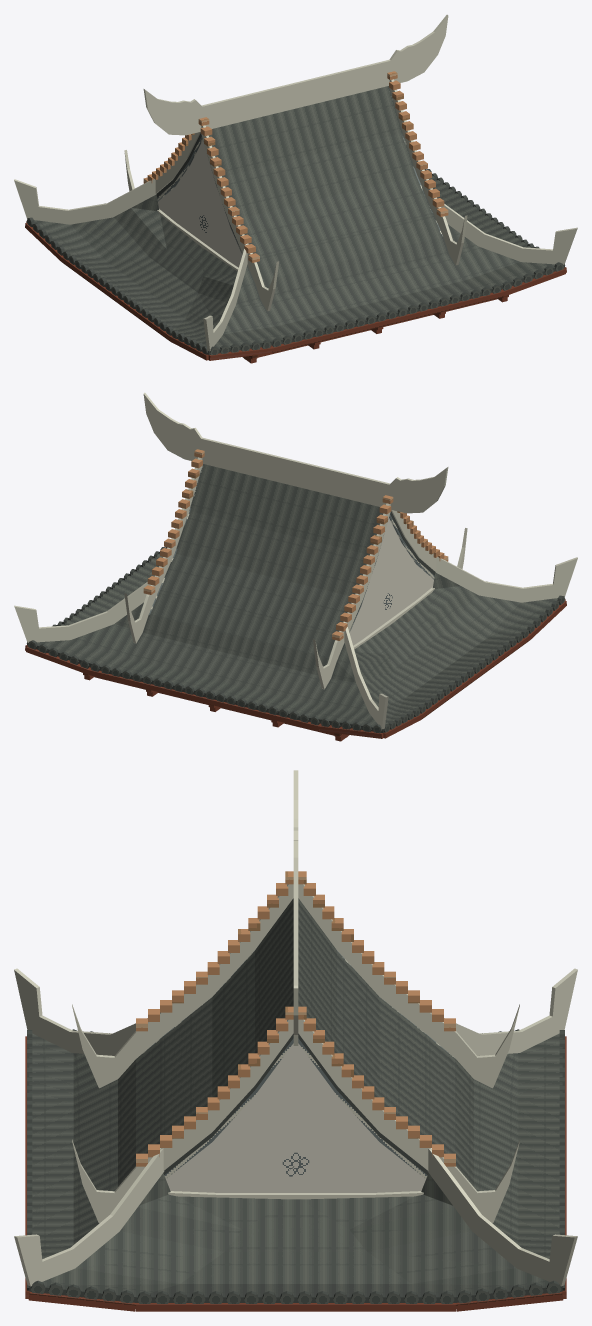
The model's file is roof_v8.obj.
The picture shows the model from 3 angles, top to bottom: view 1: azimuth 30°, elevation 25°; view 2: azimuth 150°, elevation 25°; view 3: azimuth 270°, elevation 25°; orthographic projection. The views are drawn at different scales.
Parts seen in each view (by area): view 1: tiles__upper_1_0, tiles__upper_1_1, tiles__upper_1_2, tiles__lower_side_1_2, main_ridge__continuous_9_block_plate, tiles__lower_side_1_0, gable_L__plaster_wall, tiles__lower_side_1_1, tiles__lower_side_1_3, lower_ridge_L_N__B_18_18_70_blade, lower_ridge_R_S__B_18_18_70_blade, tiles__end_shoulder_-1_-1_2 (+28 smaller); view 2: tiles__upper_-1_0, tiles__upper_-1_1, tiles__upper_-1_2, tiles__lower_side_-1_2, main_ridge__continuous_9_block_plate, tiles__lower_side_-1_0, gable_L__plaster_wall, tiles__lower_side_-1_1, tiles__lower_side_-1_3, lower_ridge_L_S__B_18_18_70_blade, lower_ridge_R_N__B_18_18_70_blade, tiles__end_shoulder_-1_1_2 (+28 smaller); view 3: gable_R__plaster_wall, tiles__lower_side_-1_3, tiles__lower_side_1_3, tiles__upper_-1_2, tiles__upper_1_2, tiles__lower_side_-1_2, tiles__lower_side_1_2, raking_ridge_L_N__A_B_G_D_E, raking_ridge_L_S__A_B_G_D_E, tiles__upper_-1_1, tiles__upper_1_1, tiles__end_shoulder_1_-1_2 (+39 smaller).
Part boxes in pixels (x1,y1,x2,y2): tiles__upper_1_0: (208,86,402,176); tiles__upper_1_1: (222,133,415,217); tiles__upper_1_2: (230,175,433,256); tiles__lower_side_1_2: (268,255,465,325); main_ridge__continuous_9_block_plate: (201,59,390,128); tiles__lower_side_1_0: (256,215,442,280); gable_L__plaster_wall: (158,140,242,267); tiles__lower_side_1_1: (263,237,448,297); tiles__lower_side_1_3: (277,280,480,342); lower_ridge_L_N__B_18_18_70_blade: (14,179,156,224); lower_ridge_R_S__B_18_18_70_blade: (435,198,577,264); tiles__end_shoulder_-1_-1_2: (71,217,149,261); tiles__upper_-1_0: (190,464,383,554); tiles__upper_-1_1: (176,511,369,595); tiles__upper_-1_2: (159,553,361,634); tiles__lower_side_-1_2: (126,633,323,703); main_ridge__continuous_9_block_plate: (201,437,390,506); tiles__lower_side_-1_0: (150,593,335,658); gable_L__plaster_wall: (349,518,433,645); tiles__lower_side_-1_1: (143,615,328,675); tiles__lower_side_-1_3: (111,658,314,720); lower_ridge_L_S__B_18_18_70_blade: (435,557,577,602); lower_ridge_R_N__B_18_18_70_blade: (14,576,156,642); tiles__end_shoulder_-1_1_2: (442,595,520,639); gable_R__plaster_wall: (166,1043,425,1192); tiles__lower_side_-1_3: (518,1100,559,1236); tiles__lower_side_1_3: (32,1100,73,1236); tiles__upper_-1_2: (379,997,429,1174); tiles__upper_1_2: (162,998,212,1174); tiles__lower_side_-1_2: (474,1079,518,1234); tiles__lower_side_1_2: (73,1079,117,1234); raking_ridge_L_N__A_B_G_D_E: (298,884,519,1088); raking_ridge_L_S__A_B_G_D_E: (72,884,293,1088); tiles__upper_-1_1: (337,951,379,1136); tiles__upper_1_1: (212,951,254,1136); tiles__end_shoulder_1_-1_2: (367,1231,515,1283).
Bounding box in the file's own units: 17.9 × 10.14 × 15.85.
Materials: 9 (9 with a texture image).
